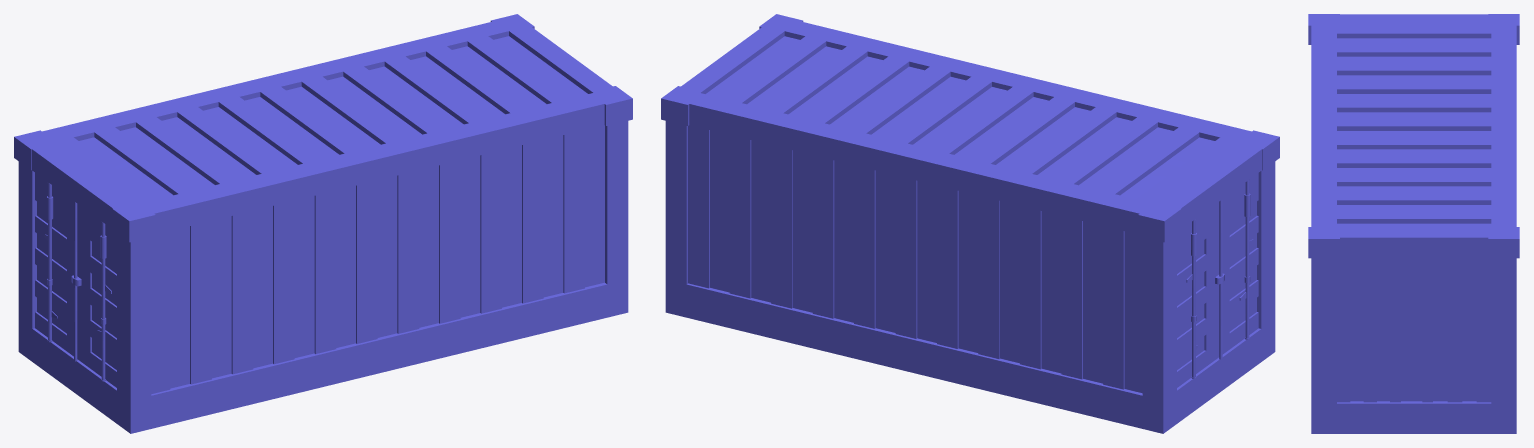
The model's file is Prop_SeaContainer High Poly.FBX.
3 renders of one model, left to right at view 1: azimuth 30°, elevation 25°; view 2: azimuth 150°, elevation 25°; view 3: azimuth 270°, elevation 25°, orthographic. The views are drawn at different scales.
Visible parts, largest first — view 1: Container High Poly; view 2: Container High Poly; view 3: Container High Poly.
Boxes of the visible parts, left/top/right/bottom form: Container High Poly: left=14, top=14, right=632, bottom=433; Container High Poly: left=661, top=14, right=1279, bottom=433; Container High Poly: left=1308, top=14, right=1519, bottom=433.
Bounding box in the file's own units: 614 × 250 × 244.
